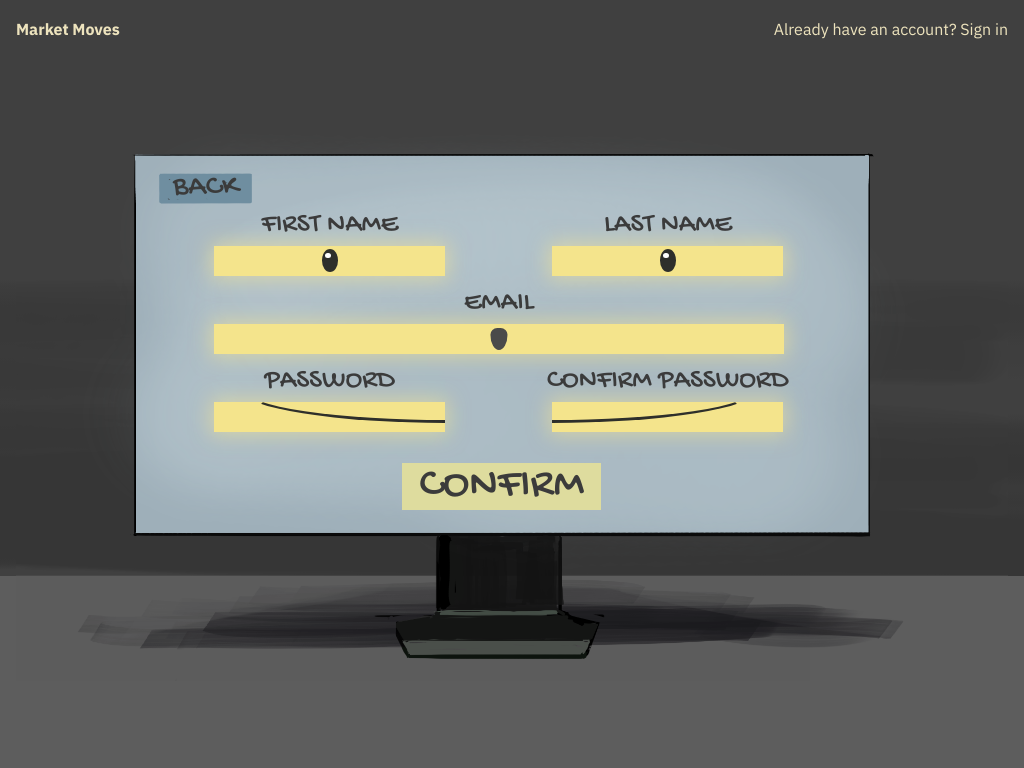
sign-up page › shows the backend’s 409
Type "Maya" into the field labelled "FIRST NAME" at (330, 261), box [214, 246, 445, 276]
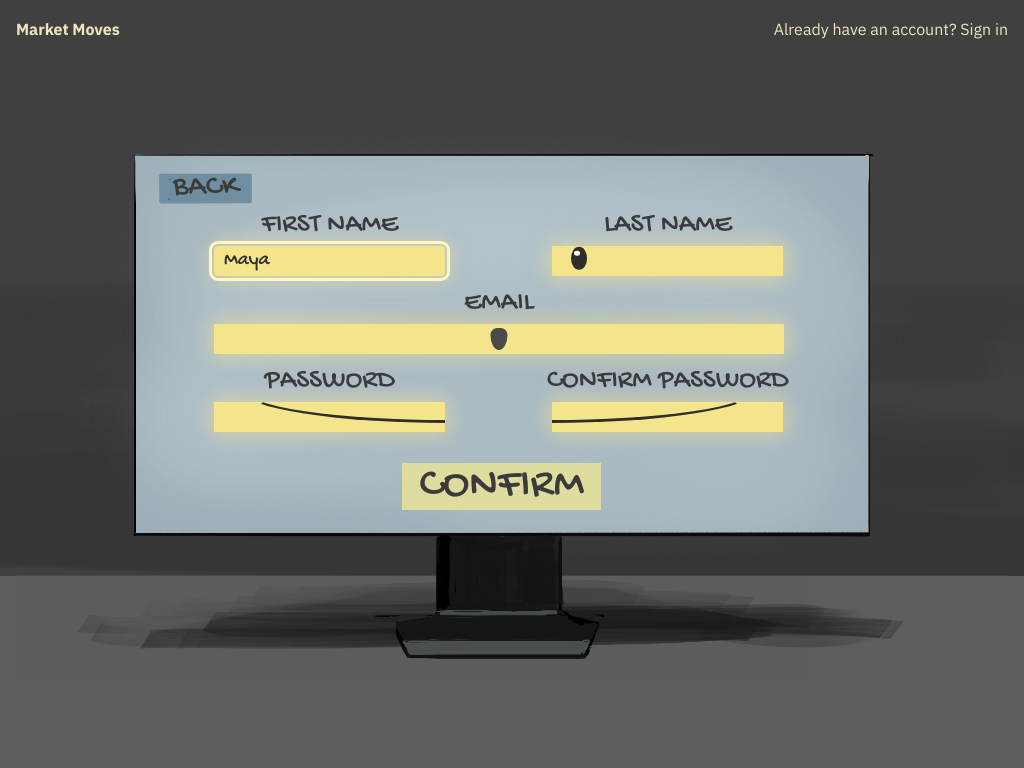
Type "Lopez" into the field labelled "LAST NAME" at (668, 261), box [552, 246, 783, 276]
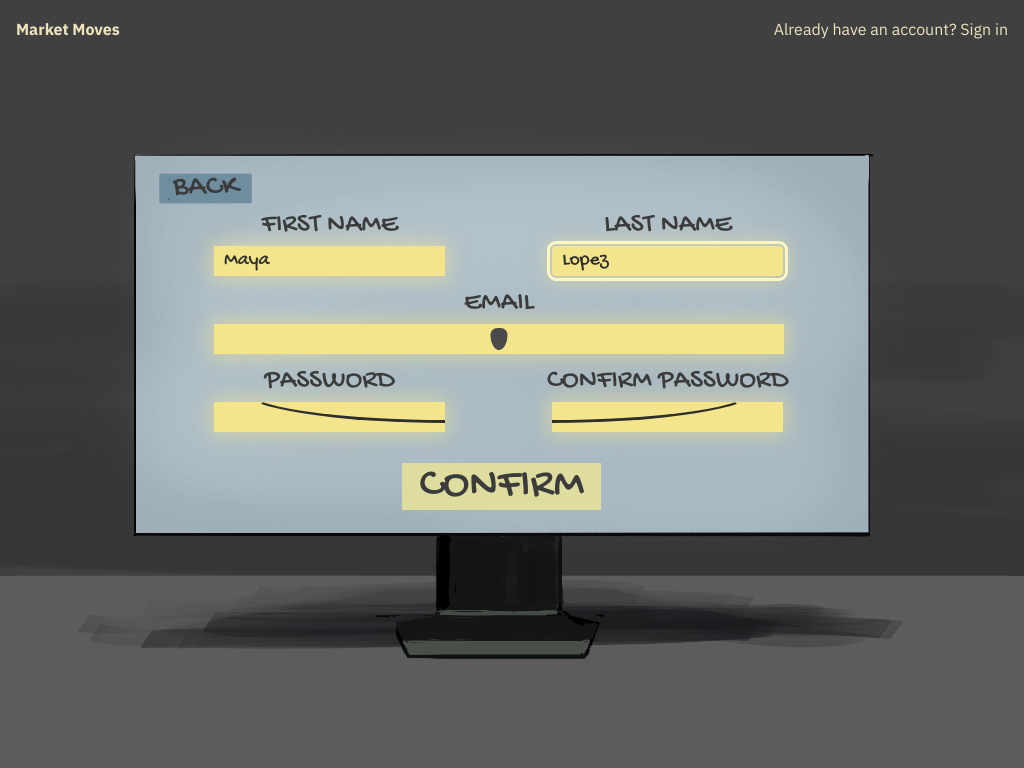
Type "maya@example.com" into the field labelled "EMAIL" at (499, 339), box [214, 324, 784, 354]
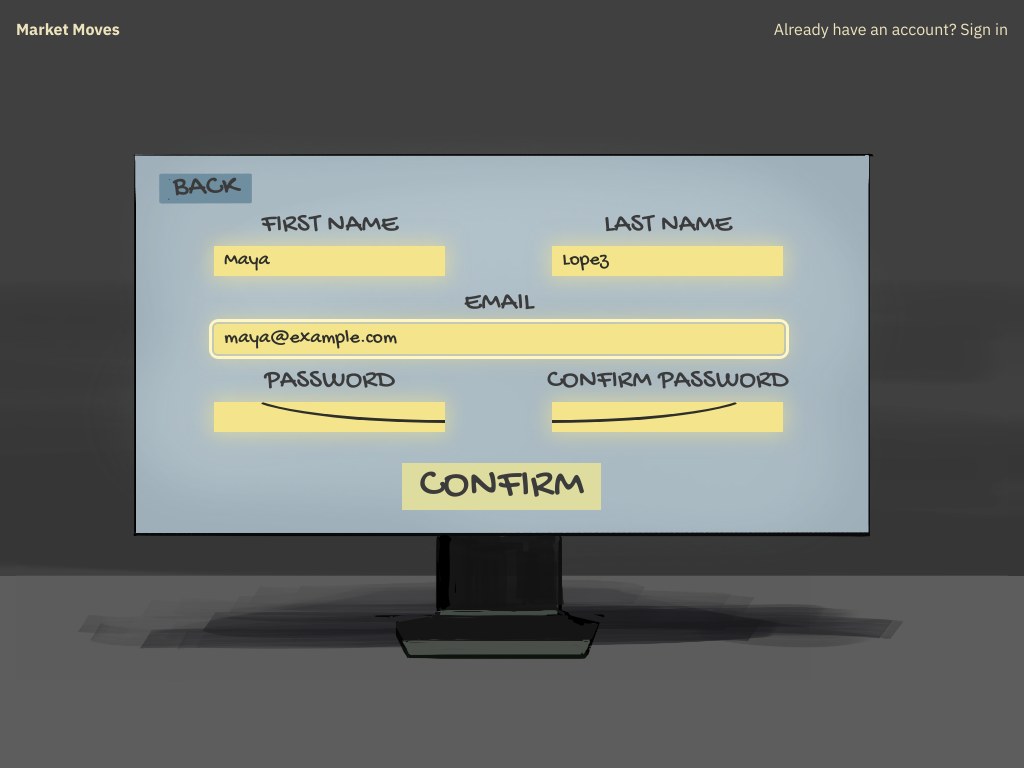
Type "correct horse" into the password field labelled "PASSWORD" at (330, 417), box [214, 402, 445, 432]
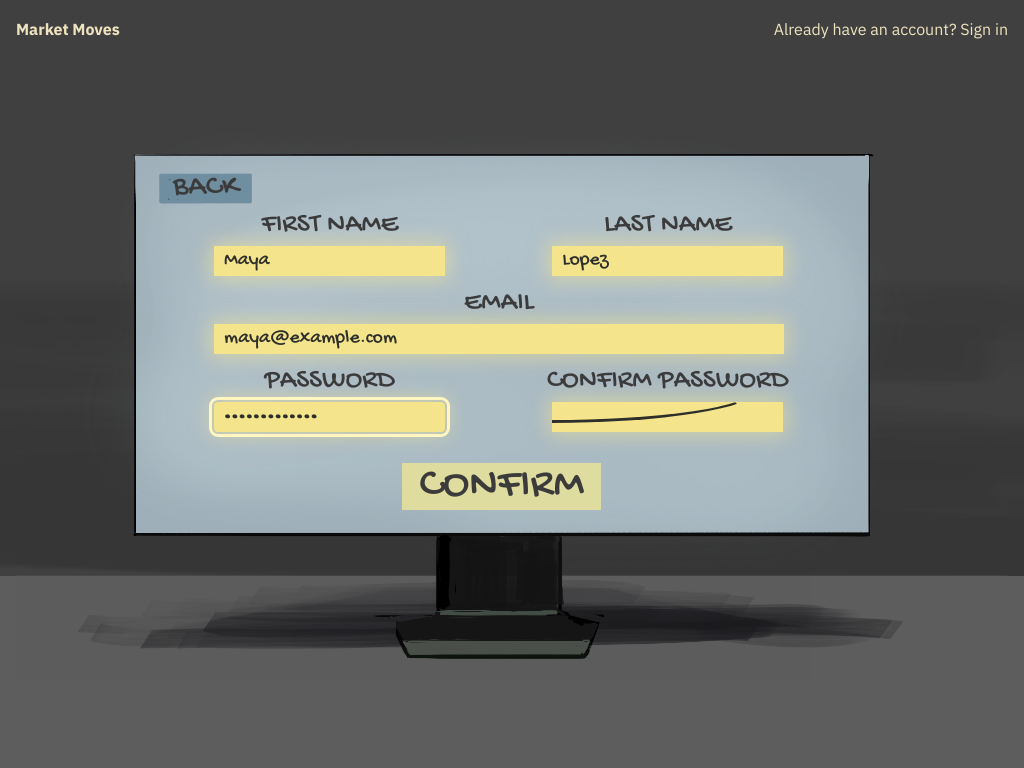
Type "correct horse" into the password field labelled "CONFIRM PASSWORD" at (668, 417), box [552, 402, 783, 432]
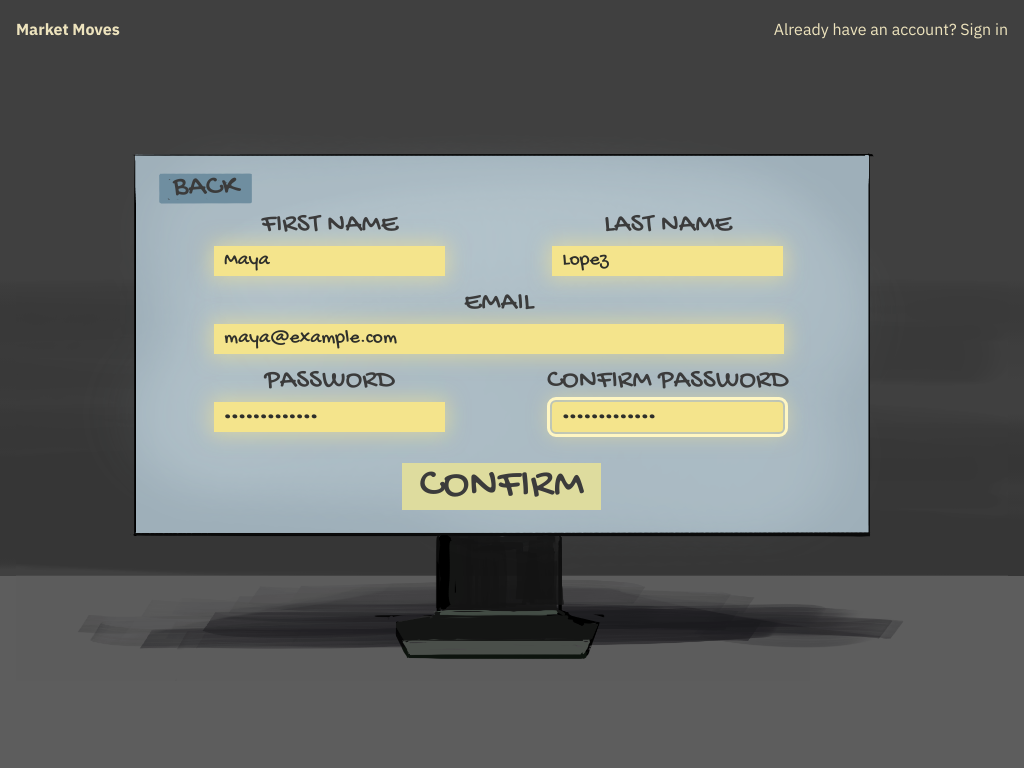
Click the button "CONFIRM" at (502, 487), box [402, 463, 601, 510]
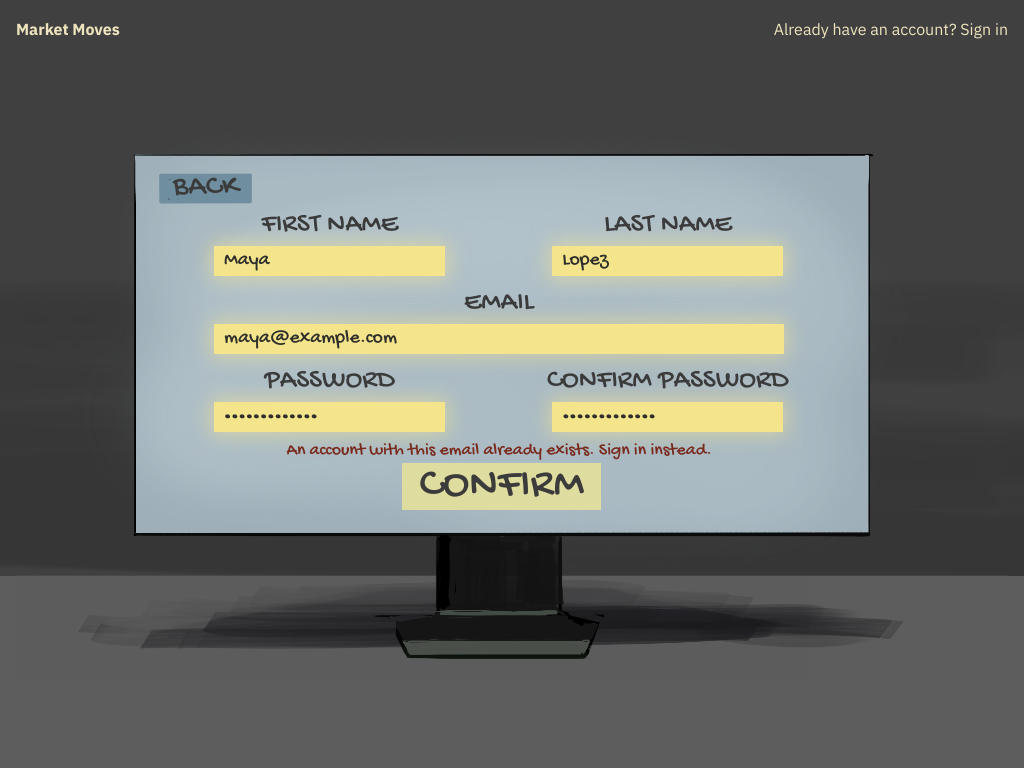
Check: the message reads "An account with this email already exists. Sign in instead.", box [286, 440, 712, 461]
